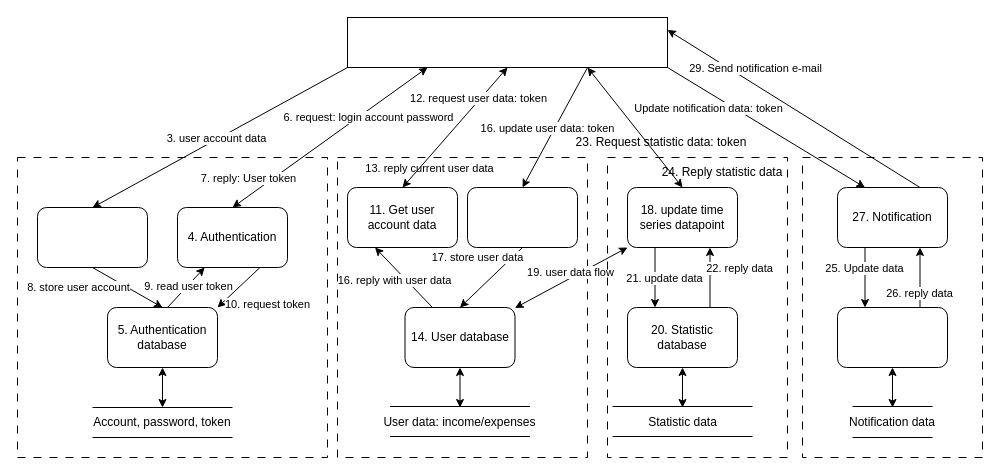
Some shapes in this 1000 by 475 pixel diagram are drawn without their labels. Here are the shapes that lost their labels. From the top down, the box of each, then its label:
(346, 16, 668, 68): 1. WEB clients
(36, 206, 148, 268): 2. Register
(466, 186, 578, 248): 15. Store user data
(836, 306, 948, 368): 28. Notification database
